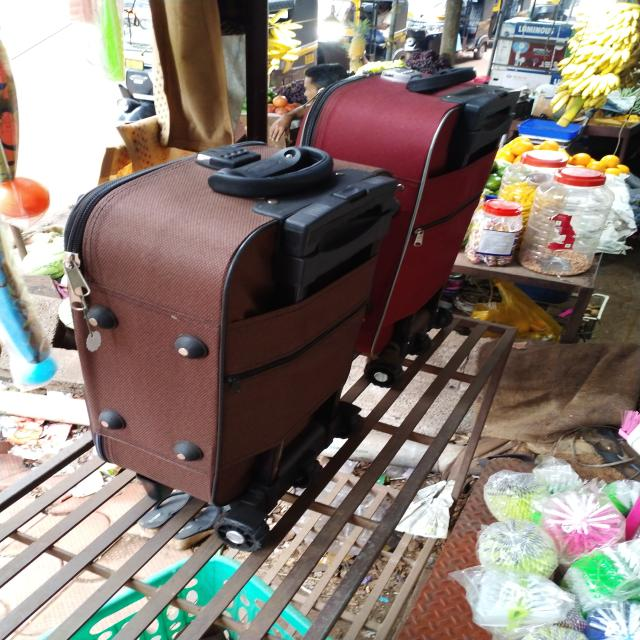suitcaserotation: (57, 135, 406, 555), (287, 61, 523, 363)
